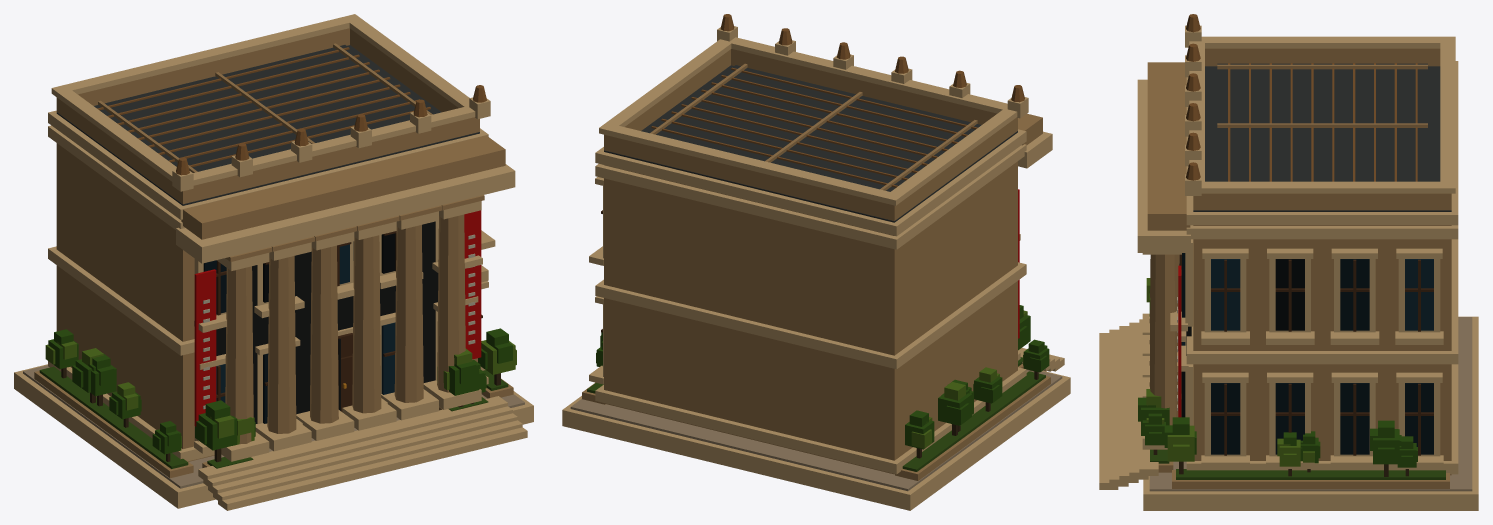
The model's file is SM_Mapa_013.fbx.
3 renders of one model, left to right at view 1: azimuth 30°, elevation 25°; view 2: azimuth 150°, elevation 25°; view 3: azimuth 270°, elevation 25°, orthographic. The views are drawn at different scales.
Visible parts, largest first — view 1: SM_Mapa_013; view 2: SM_Mapa_013; view 3: SM_Mapa_013.
Boxes of the visible parts, x1=… form: SM_Mapa_013: x1=14, y1=14, x2=533, y2=510; SM_Mapa_013: x1=562, y1=14, x2=1070, y2=510; SM_Mapa_013: x1=1099, y1=14, x2=1478, y2=510.
Bounding box in the file's own units: 24 × 21.52 × 20.78.
